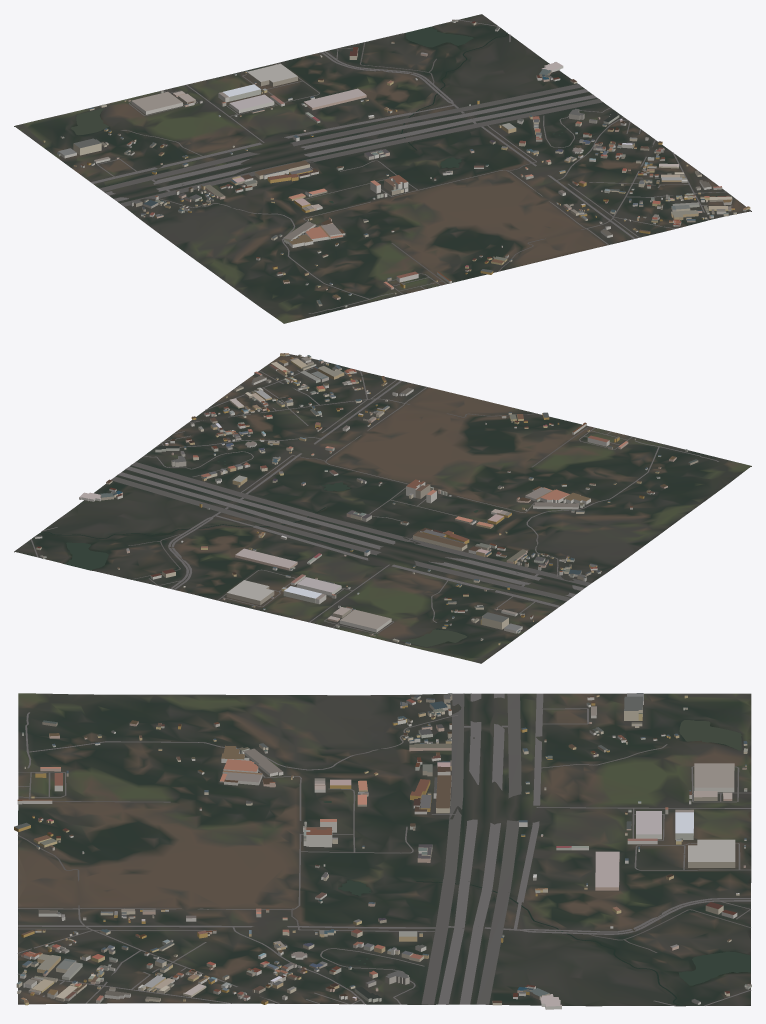
3 renders of one model, top to bottom at view 1: azimuth 30°, elevation 25°; view 2: azimuth 150°, elevation 25°; view 3: azimuth 270°, elevation 25°, orthographic. The views are drawn at different scales.
Visible parts, largest first — view 1: ground, buildings, roads, water; view 2: ground, buildings, roads, water; view 3: ground, buildings, roads, water.
Part boxes in pixels (x1,y1,x2,y2): ground: (14,14,751,323); buildings: (43,19,750,307); roads: (91,19,732,313); water: (71,26,562,203); ground: (14,353,751,663); buildings: (34,353,698,645); roads: (30,362,718,633); water: (39,461,478,646); ground: (18,693,751,1006); buildings: (14,693,751,1009); roads: (17,693,751,1006); water: (323,720,750,1006).
Bounding box in the file's own units: 1418 × 33.15 × 1411.
